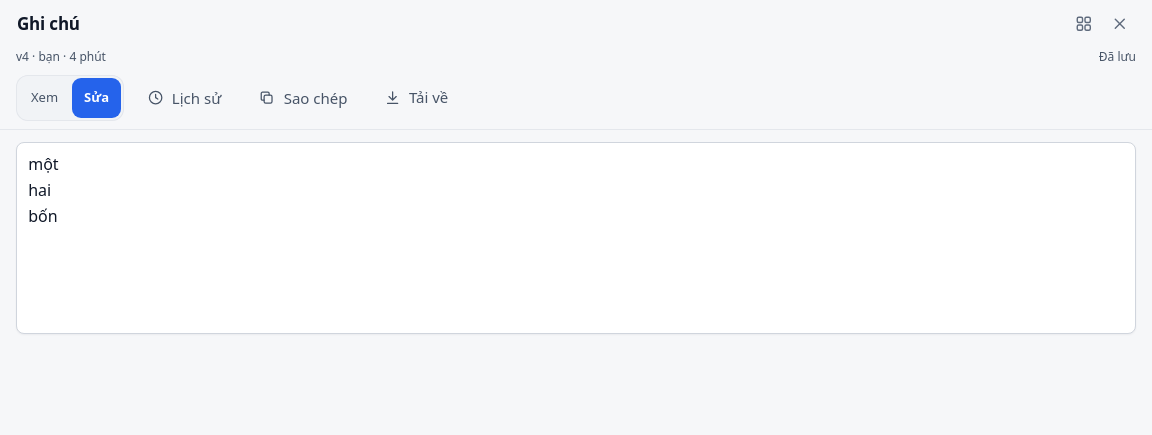
Test: versions that went › reads the list again when a version picked was folded away, and stays open
Click the button "Lịch sử".
click(184, 98)  # box [132,80,236,116]
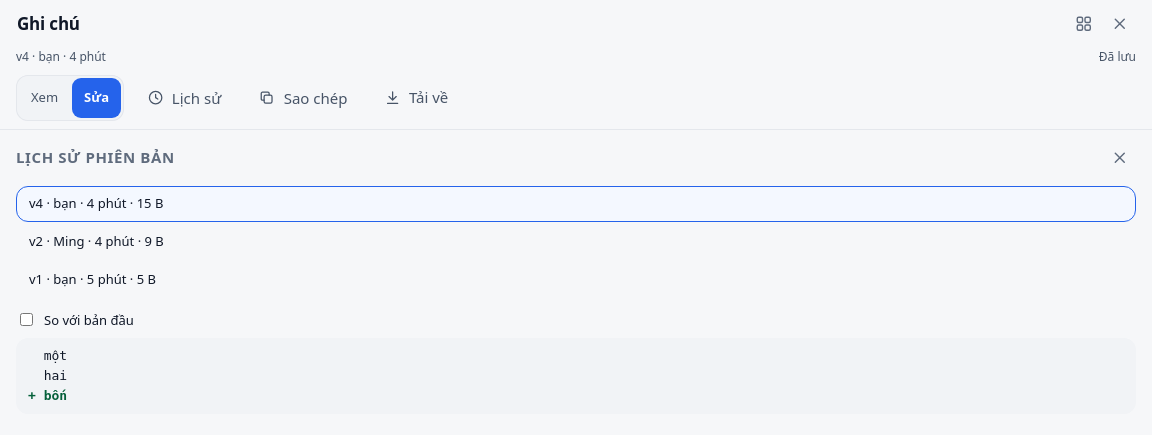
Click the button "v1 · bạn · 5 phút · 5 B".
click(92, 279)  # box [16,262,1136,298]
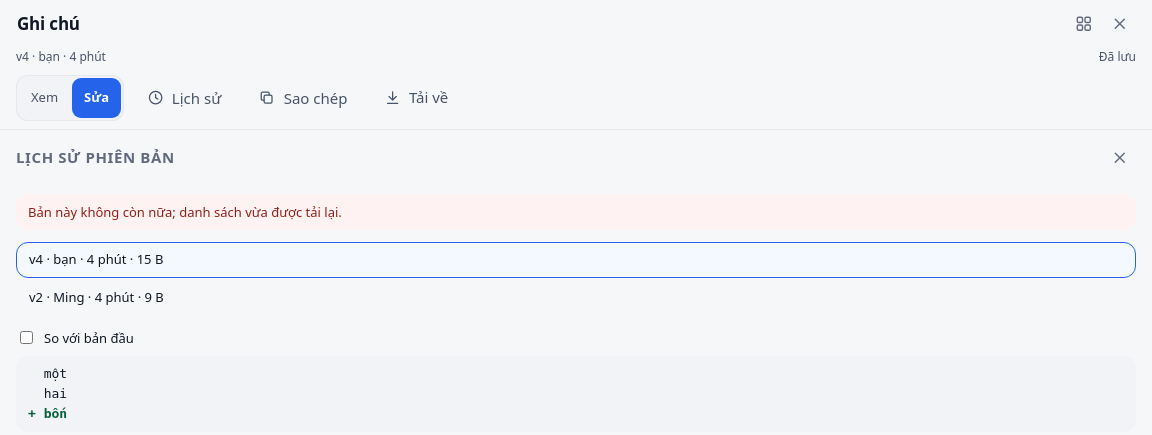
Check: the message "Bản này không còn nữa; danh sách vừa được tải lại." is shown, box [16,194,1136,230]
